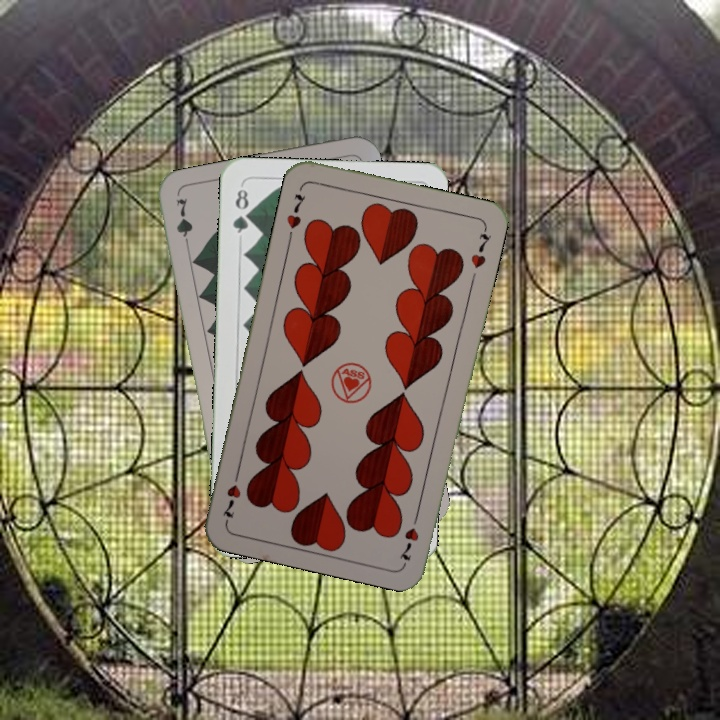G7: (172, 193, 196, 253)
G8: (228, 185, 253, 236)
H7: (395, 507, 422, 563), (282, 190, 309, 231)
